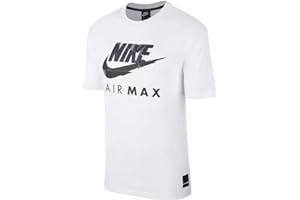design: (100, 40, 167, 98)
